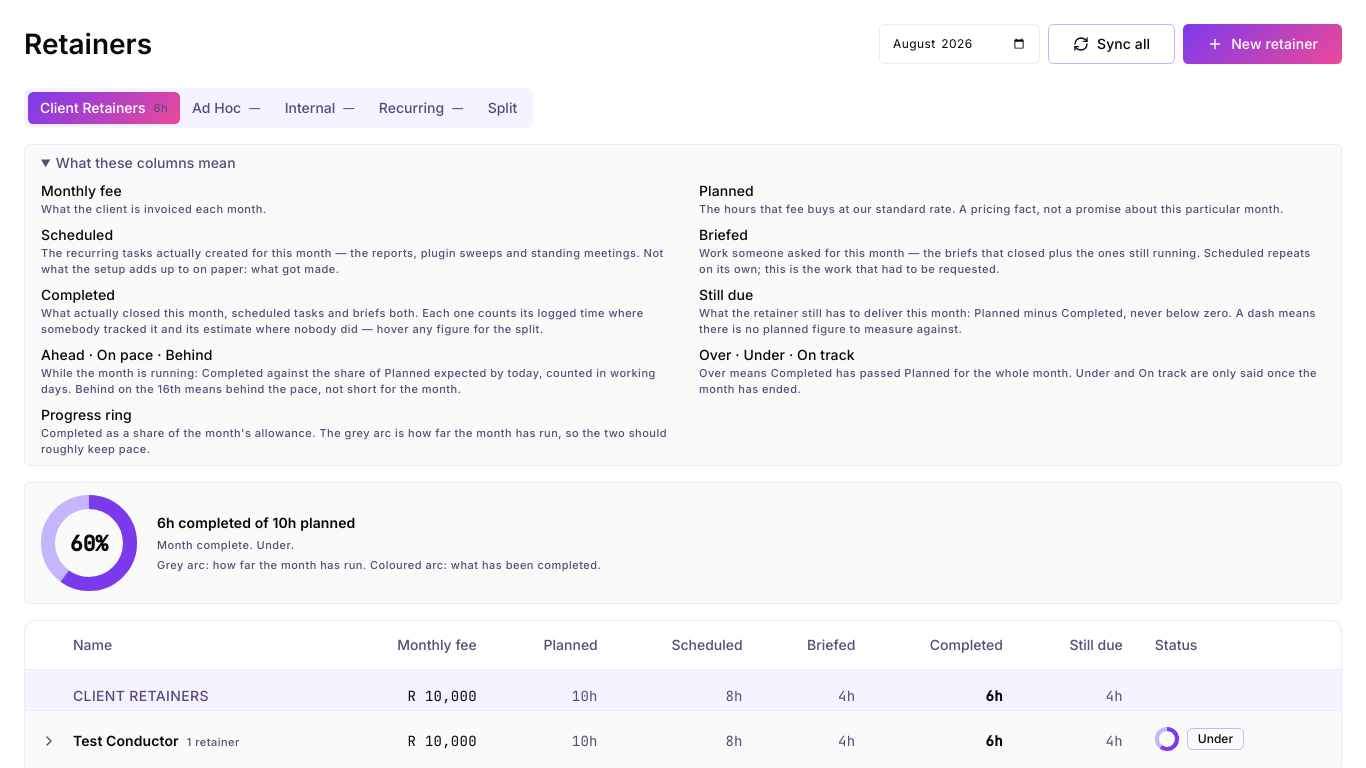
it: RetainersList client vs internal › drops the two invoice columns on Internal and shows Briefed instead
Check: the column heading "Monthly fee" is shown, box [336, 621, 493, 669]
Check: the column heading "Planned" is shown, box [493, 621, 614, 669]
Click the tab "Internal —" at (320, 108), box [273, 92, 367, 124]
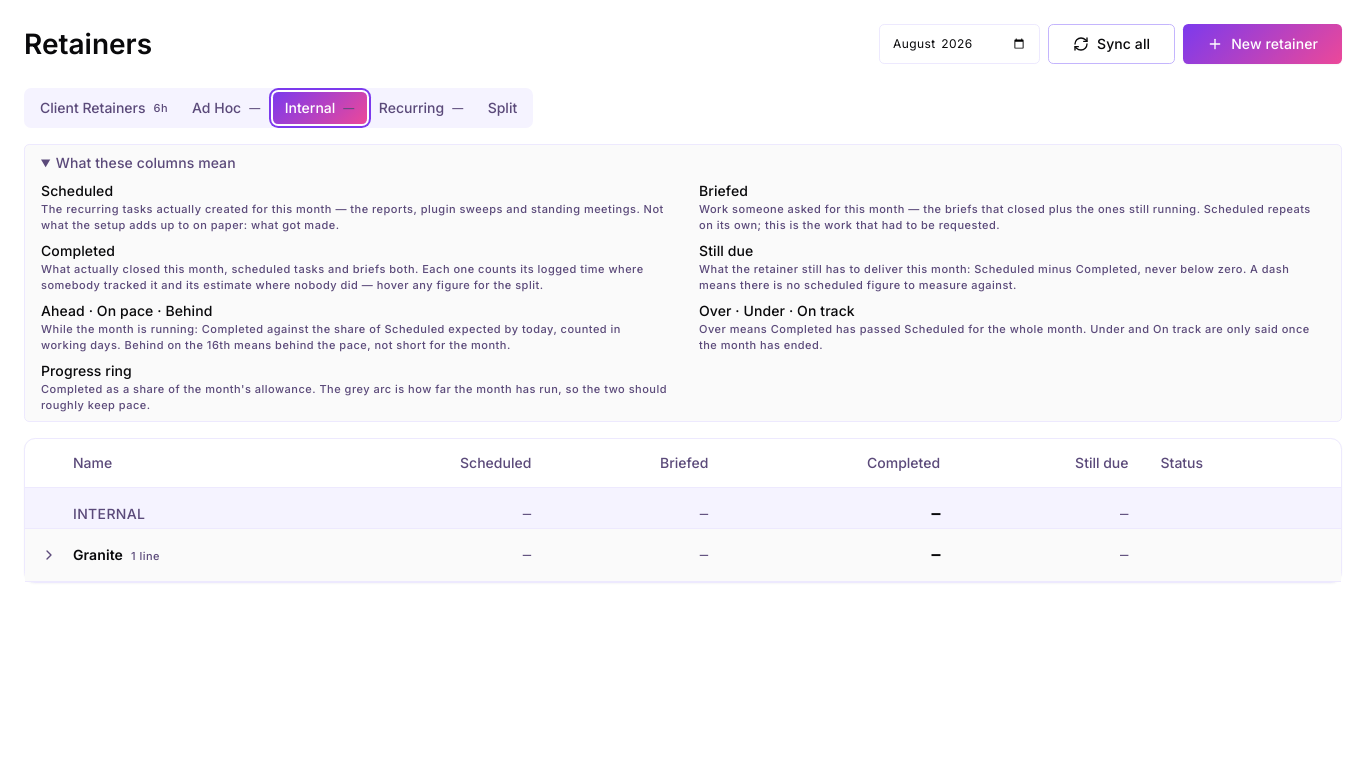
Check: the column heading "Briefed" is shown, box [547, 439, 724, 487]
Check: the text "Monthly fee" is gone
Check: the text "Planned" is gone
